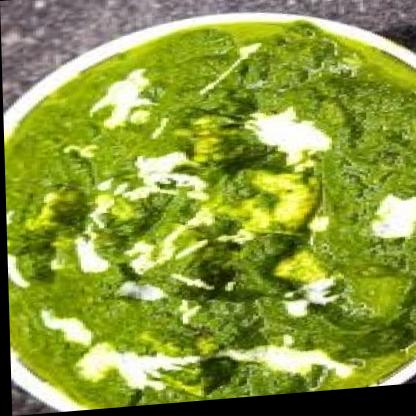palak_paneer: (1, 15, 416, 416)
